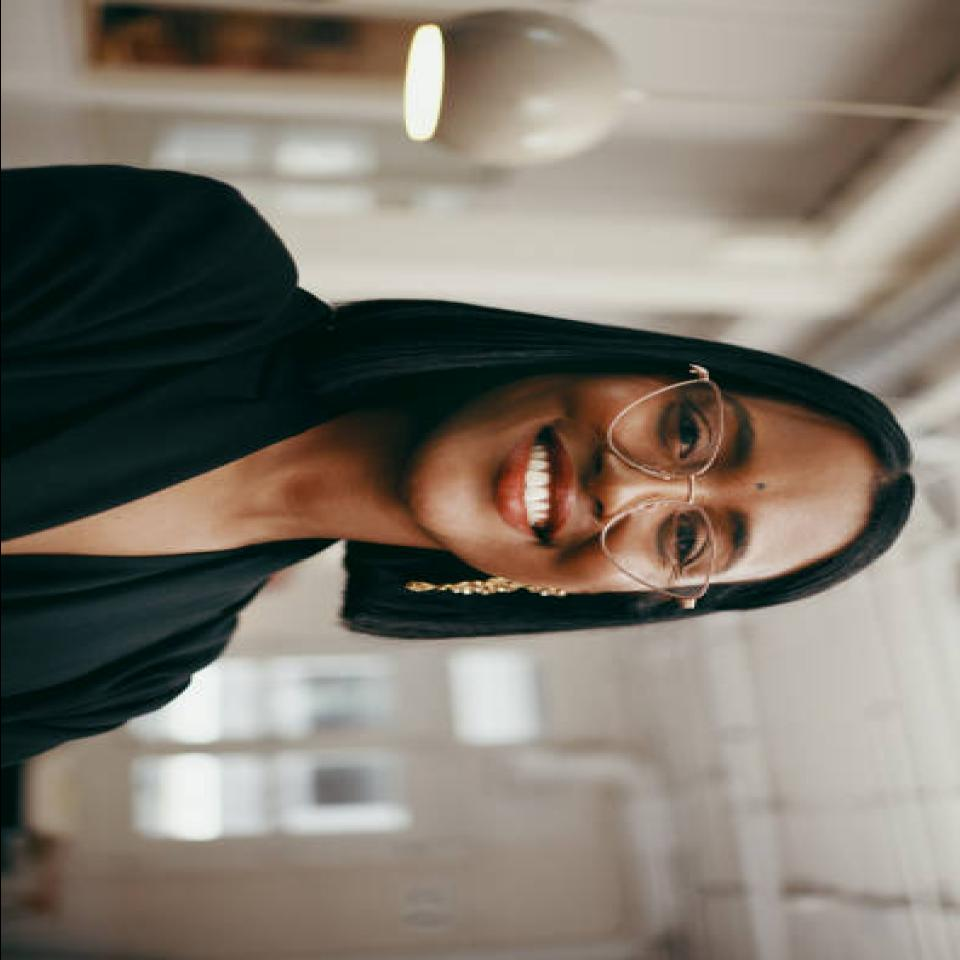Happiness: (419, 362, 859, 610)
